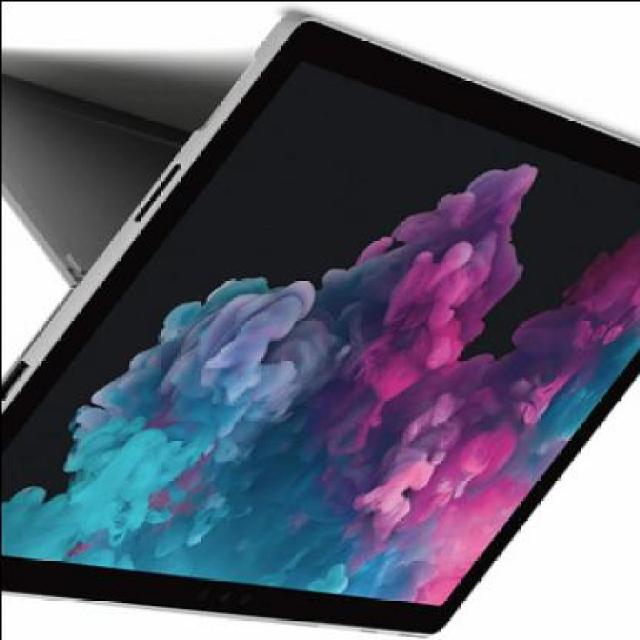tablet: (1, 1, 586, 640)
